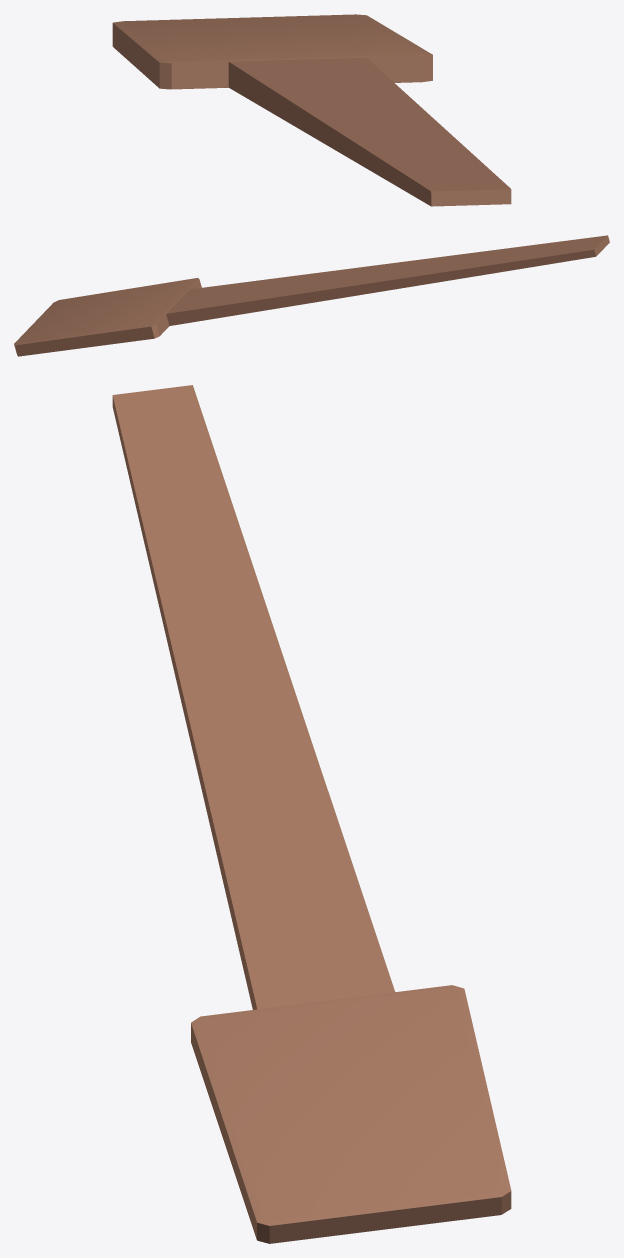
File: sutil.fbx
The picture shows the model from 3 angles, top to bottom: view 1: azimuth 90°, elevation 25°; view 2: azimuth 150°, elevation 25°; view 3: azimuth 270°, elevation 25°; orthographic projection. The views are drawn at different scales.
Visible parts, largest first — view 1: Cube.075, Cube.076; view 2: Cube.075, Cube.076; view 3: Cube.075, Cube.076.
Part boxes in pixels (<box>): Cube.075: <box>228,57,511,206</box>; Cube.076: <box>112,14,432,89</box>; Cube.075: <box>166,235,609,325</box>; Cube.076: <box>14,278,201,356</box>; Cube.075: <box>112,385,394,1009</box>; Cube.076: <box>191,985,511,1243</box>.
Bounding box in the file's own units: 495 × 159 × 163.
